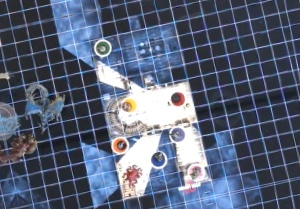blue: (144, 145, 170, 171)
green: (90, 34, 115, 59)
orange: (108, 132, 132, 156)
pink: (164, 87, 191, 110), (182, 159, 207, 181)
violet: (166, 121, 189, 144)
yellow: (118, 93, 140, 116)
